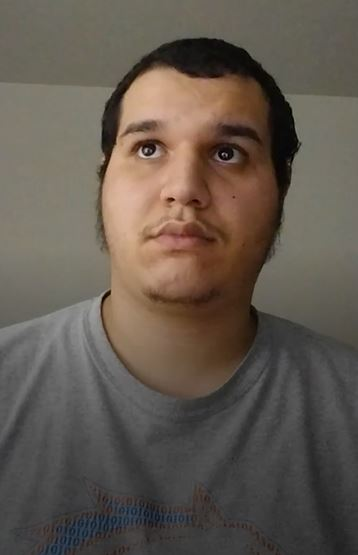Not Sleeping: (114, 122, 273, 180)
